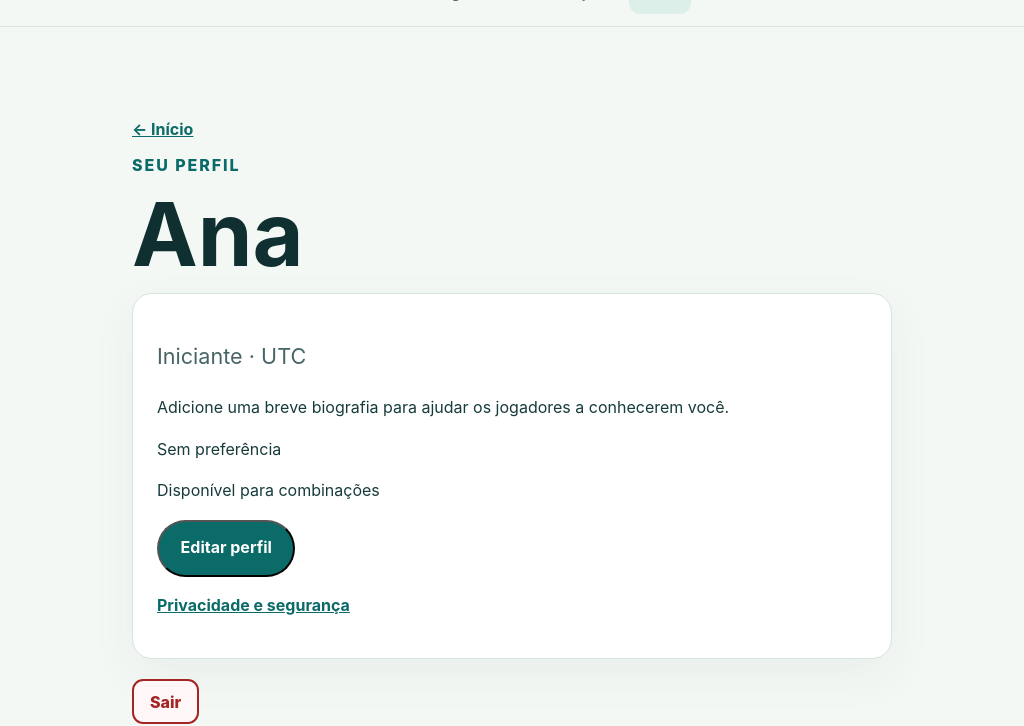
profile editing › loads and saves profile edits
Expected: the heading "Ana" is shown, [132,181,304,287]
Click the button "Editar perfil" at {"x": 226, "y": 548}, box [157,520,296,577]
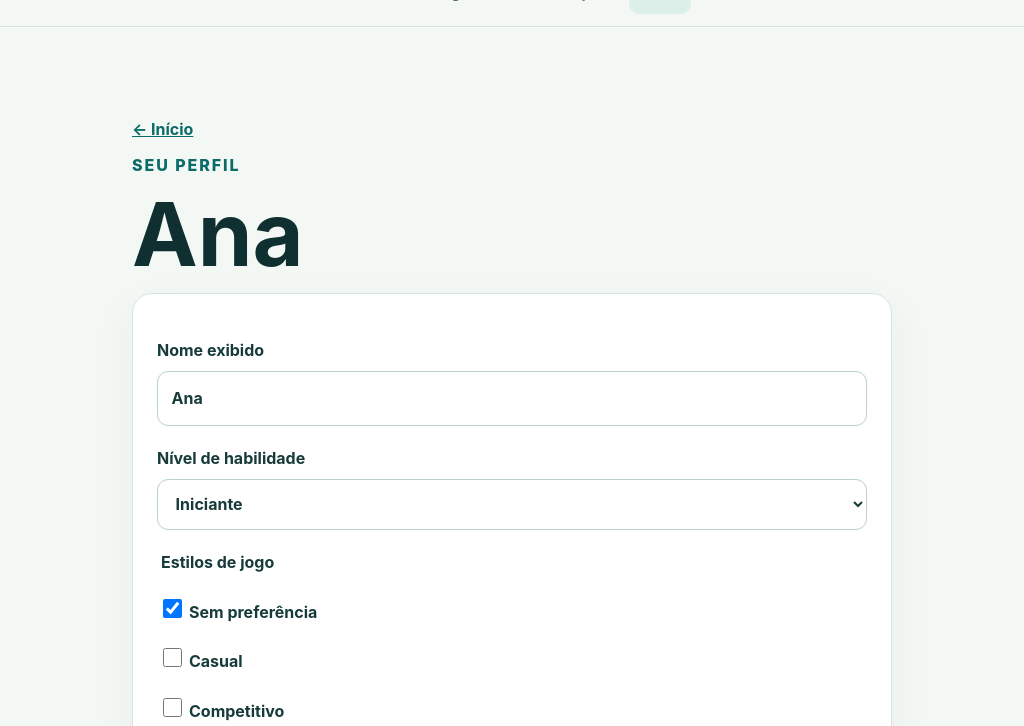
Replace the text in the field labelled "Nome exibido" with "Bia" at {"x": 512, "y": 399}, box [157,371,867,426]
(page scrolled)
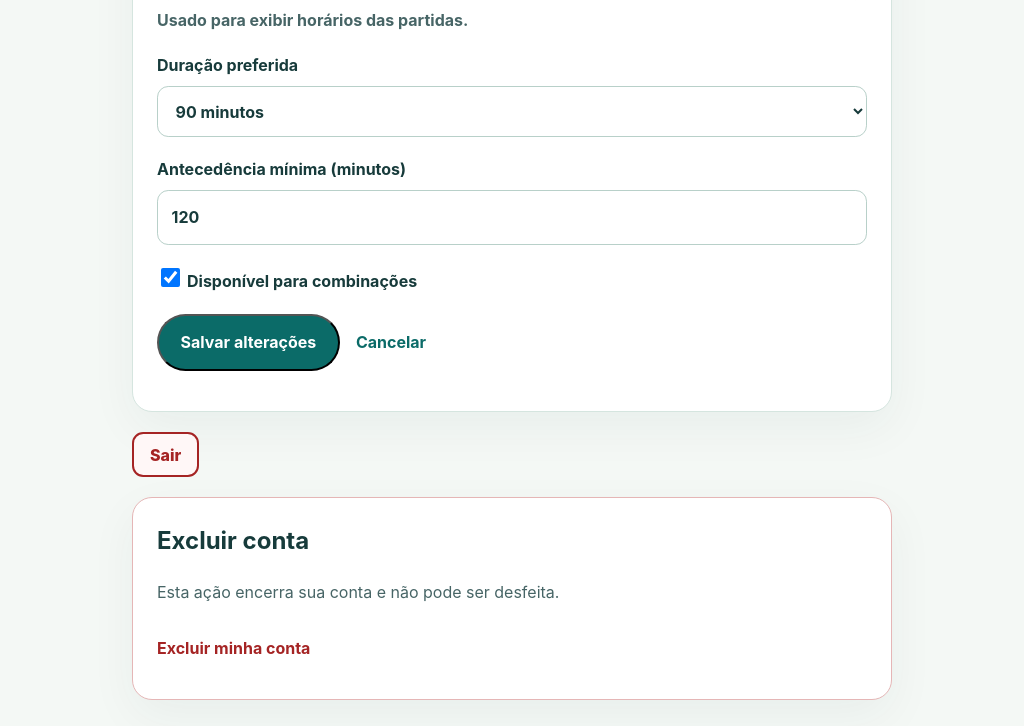
Click the button "Salvar alterações" at {"x": 248, "y": 343}, box [157,314,340,371]
(page scrolled)
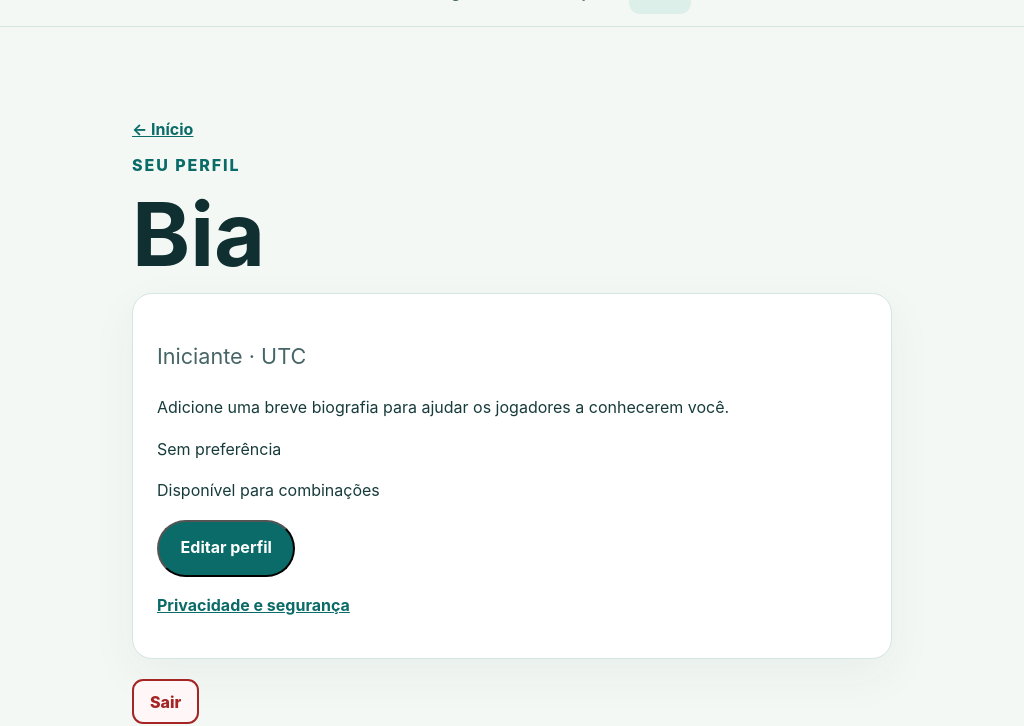
Expected: the heading "Bia" is shown, [132,181,265,287]
